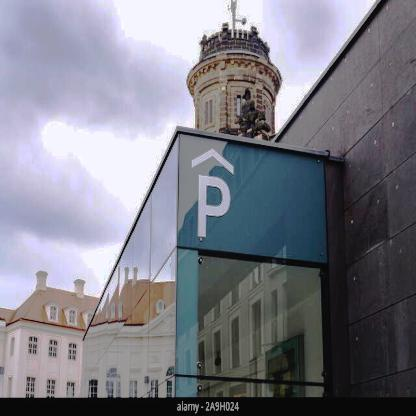Parking: (191, 166, 234, 242)
